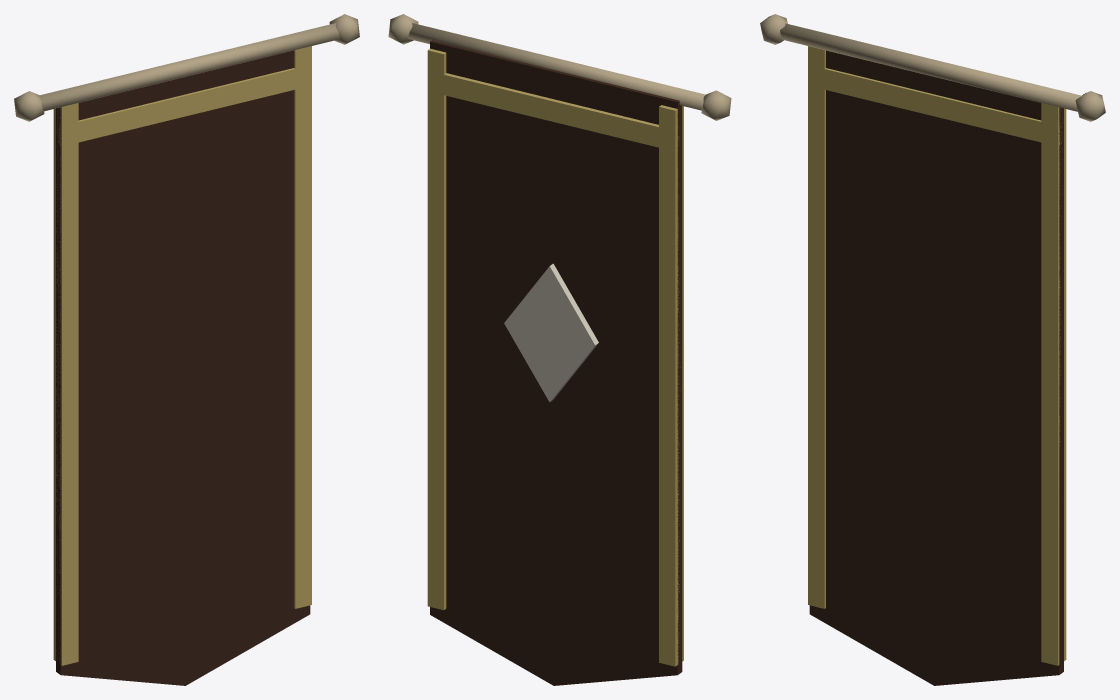
The model's file is krampus_banner_v0.glb.
3 renders of one model, left to right at view 1: azimuth 30°, elevation 25°; view 2: azimuth 150°, elevation 25°; view 3: azimuth 330°, elevation 25°, orthographic.
Visible parts, largest first — view 1: krampus_banner_v0; view 2: krampus_banner_v0; view 3: krampus_banner_v0.
Part boxes in pixels (<box>): krampus_banner_v0: <box>14,14,359,685</box>; krampus_banner_v0: <box>388,14,731,685</box>; krampus_banner_v0: <box>760,14,1105,685</box>.
Size of the model in its own units: 1.04 by 1.84 by 0.0933.
